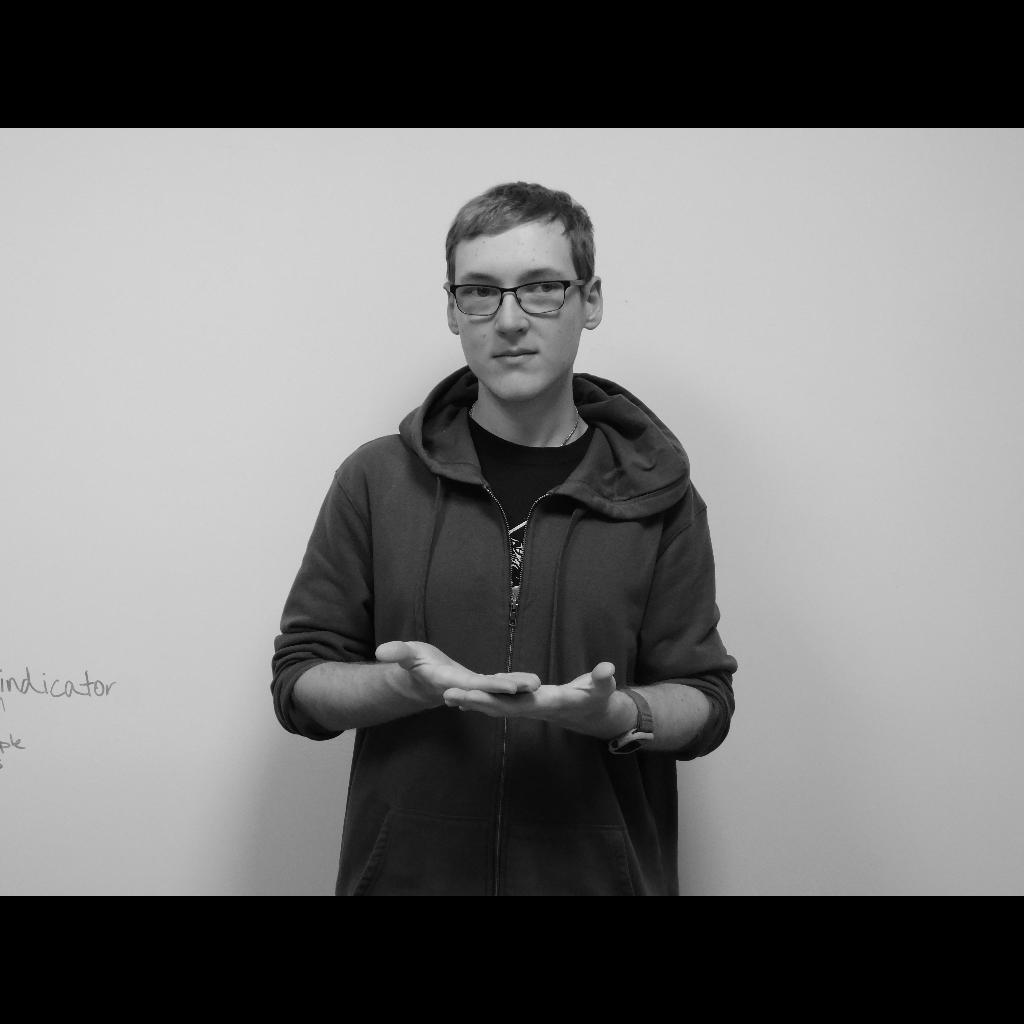good: (375, 641, 617, 725)
